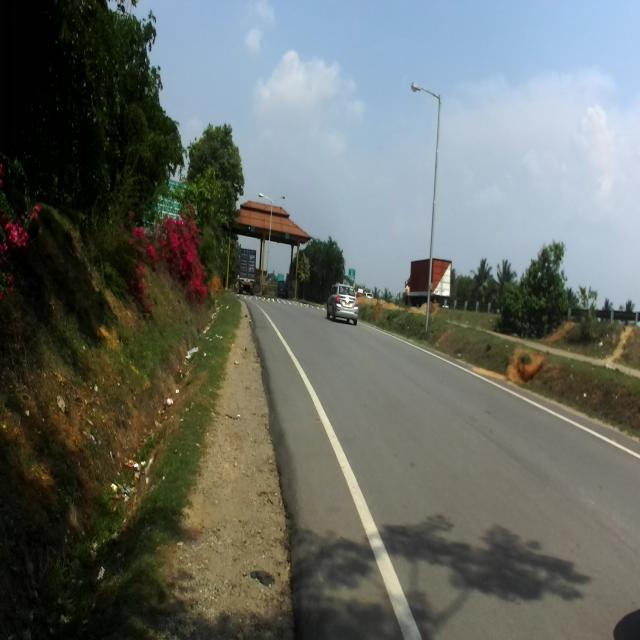Car_Maruti-Suzuki: (326, 283, 358, 325)
